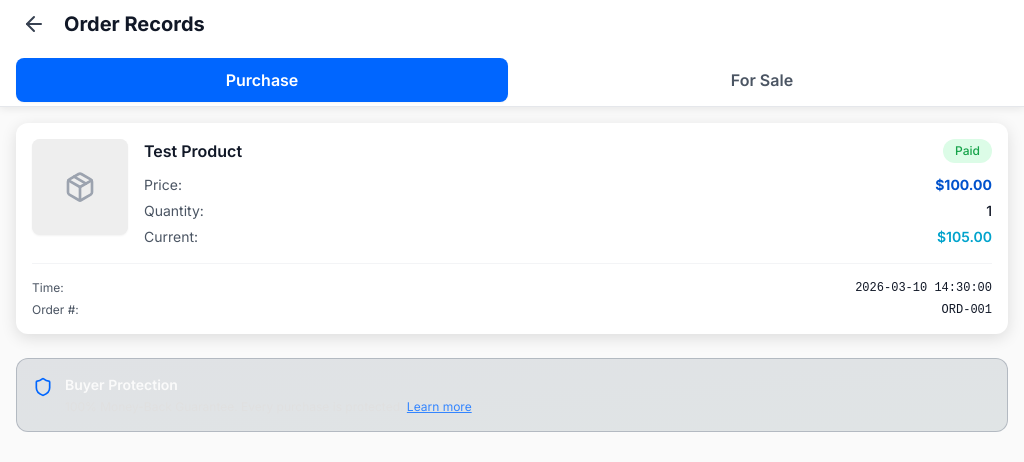
Test: OrderRecordPage › switches back to Purchase tab bidirectionally
expect the heading "Test Product" is shown: met, box 144,141 -> 242,161
// Switch to For Sale
Click the button "For Sale": (762, 80) 516,58 -> 1008,102
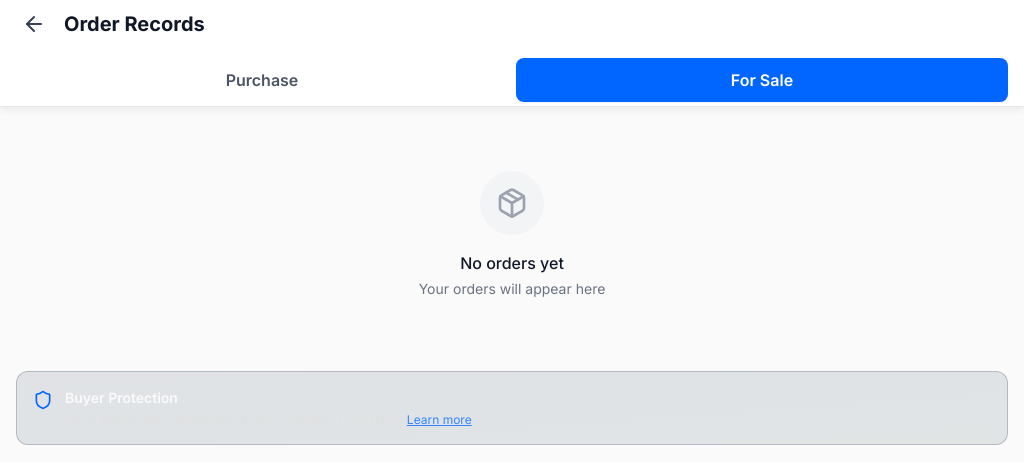
expect the heading "No orders yet" is shown: met, box 460,251 -> 564,275
// Switch back to Purchase
Click the button "Purchase": (262, 80) 16,58 -> 508,102
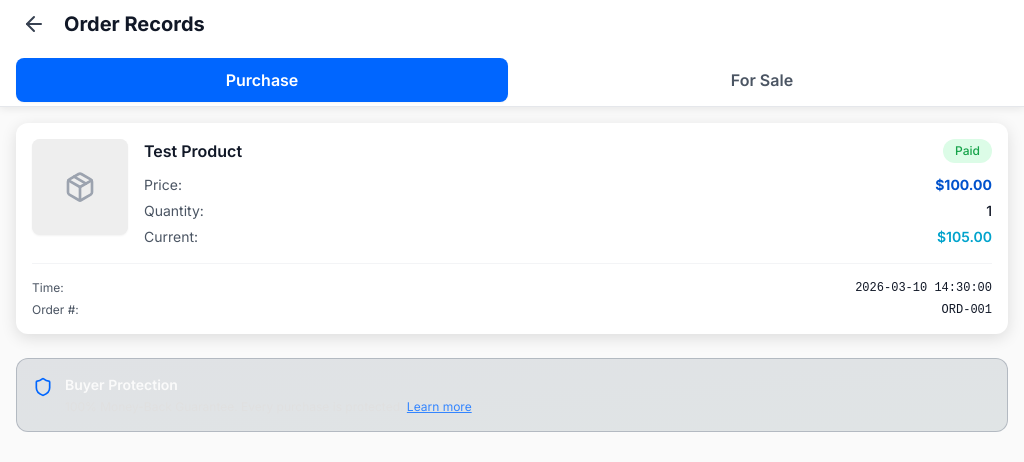
expect the heading "Test Product" is shown: met, box 144,141 -> 242,161
